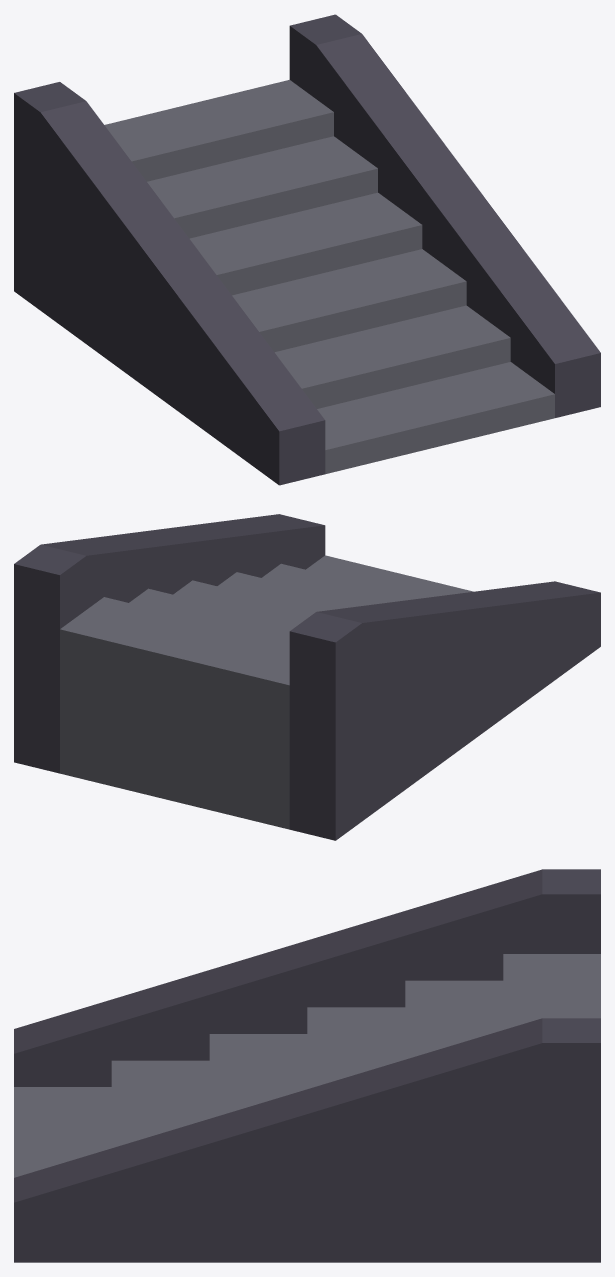
File: stairs_narrow.fbx
The picture shows the model from 3 angles, top to bottom: view 1: azimuth 30°, elevation 25°; view 2: azimuth 150°, elevation 25°; view 3: azimuth 270°, elevation 25°; orthographic projection. The views are drawn at different scales.
Parts seen in each view (by area): view 1: stairs_narrow; view 2: stairs_narrow; view 3: stairs_narrow.
Boxes of the visible parts, x1,y1,x2,y2 form: stairs_narrow: (14, 14, 600, 485); stairs_narrow: (14, 514, 600, 840); stairs_narrow: (14, 869, 600, 1262).
Bounding box in the file's own units: 2.8 × 1.65 × 4.
